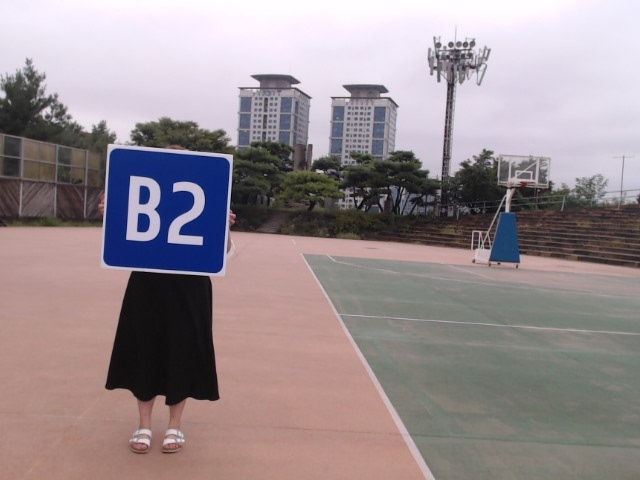delivery_b2: (103, 148, 232, 275)
